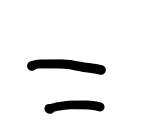eqv: (22, 55, 111, 113)
